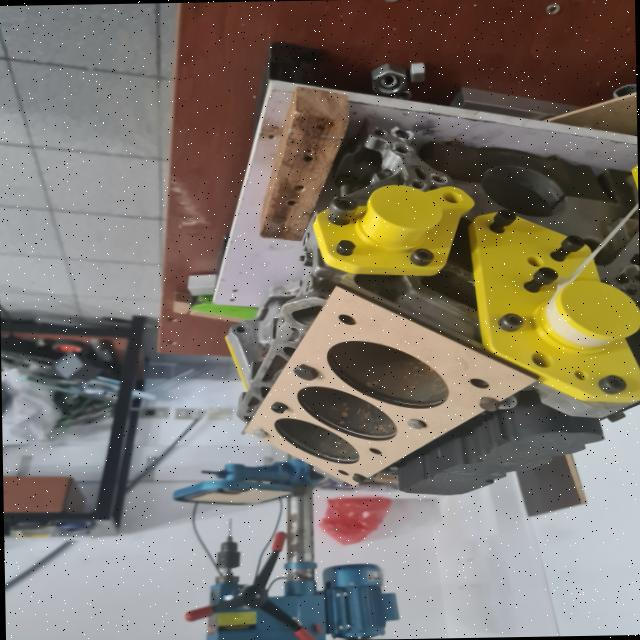tor_v1: (244, 287, 537, 486)
